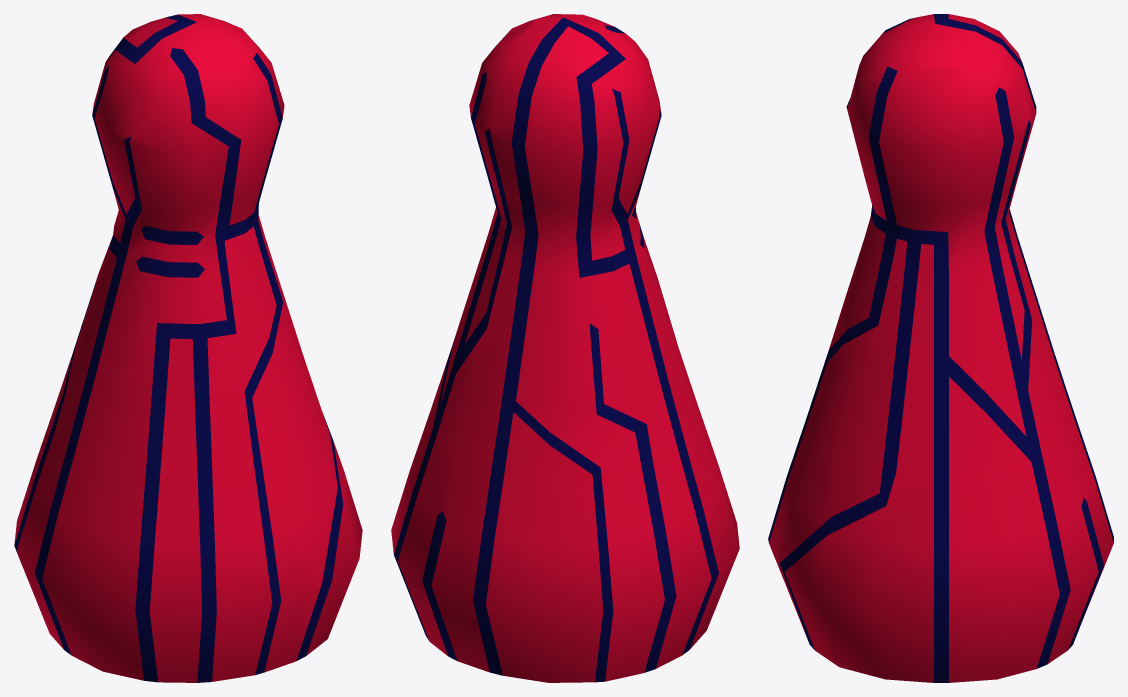
Rendered from chippink.obj.
The picture shows the model from 3 angles, left to right: view 1: azimuth 30°, elevation 25°; view 2: azimuth 150°, elevation 25°; view 3: azimuth 270°, elevation 25°; orthographic projection.
Parts seen in each view (by area): view 1: Куб.024_Куб.034; view 2: Куб.024_Куб.034; view 3: Куб.024_Куб.034.
Boxes of the visible parts, left/top/right/bottom form: Куб.024_Куб.034: left=14, top=14, right=362, bottom=682; Куб.024_Куб.034: left=391, top=14, right=739, bottom=682; Куб.024_Куб.034: left=768, top=14, right=1113, bottom=682.
Bounding box in the file's own units: 0.2365 × 0.4544 × 0.2361.
